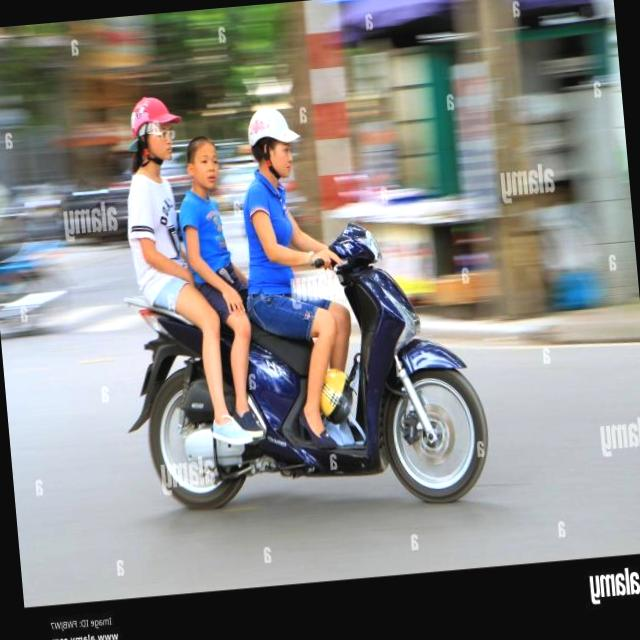motorcycle: (109, 212, 501, 530)
person: (233, 91, 372, 418), (105, 90, 232, 368), (176, 125, 262, 366)
rider_region: (99, 61, 504, 528)
